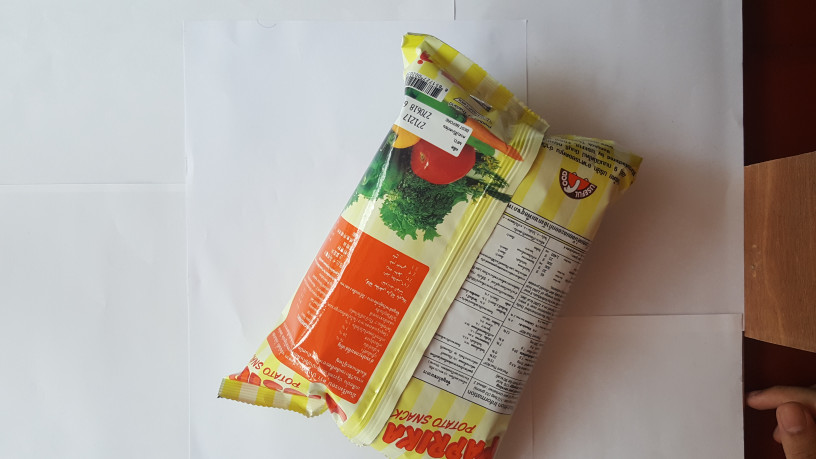paprika: (213, 26, 645, 459)
